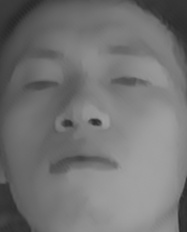eye: (106, 69, 154, 93), (22, 72, 64, 97)
mouth: (44, 142, 120, 179)
